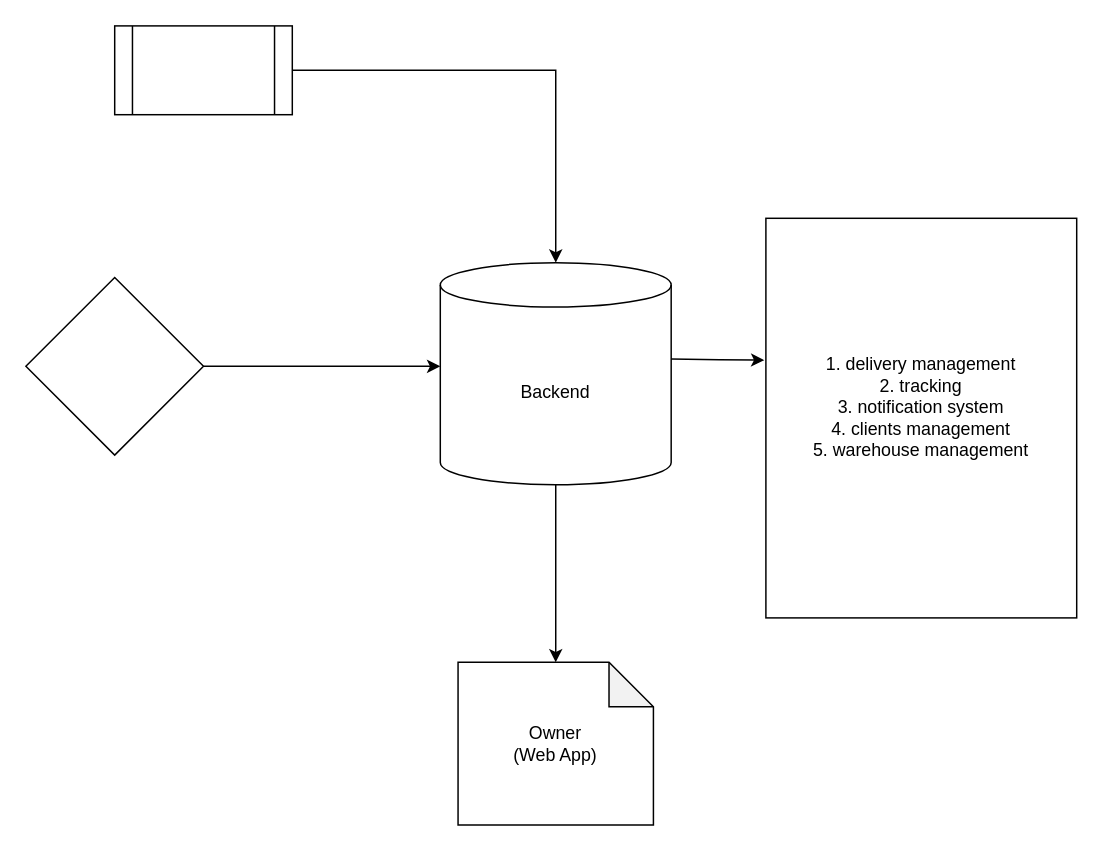
The diagram is 1103 pixels wide and 851 high, and some of its shapes have lost their labels. Each missing label, with the centre of its shape:
External Service: the point at 114,365
Mobile App (Courier): the point at 202,69
